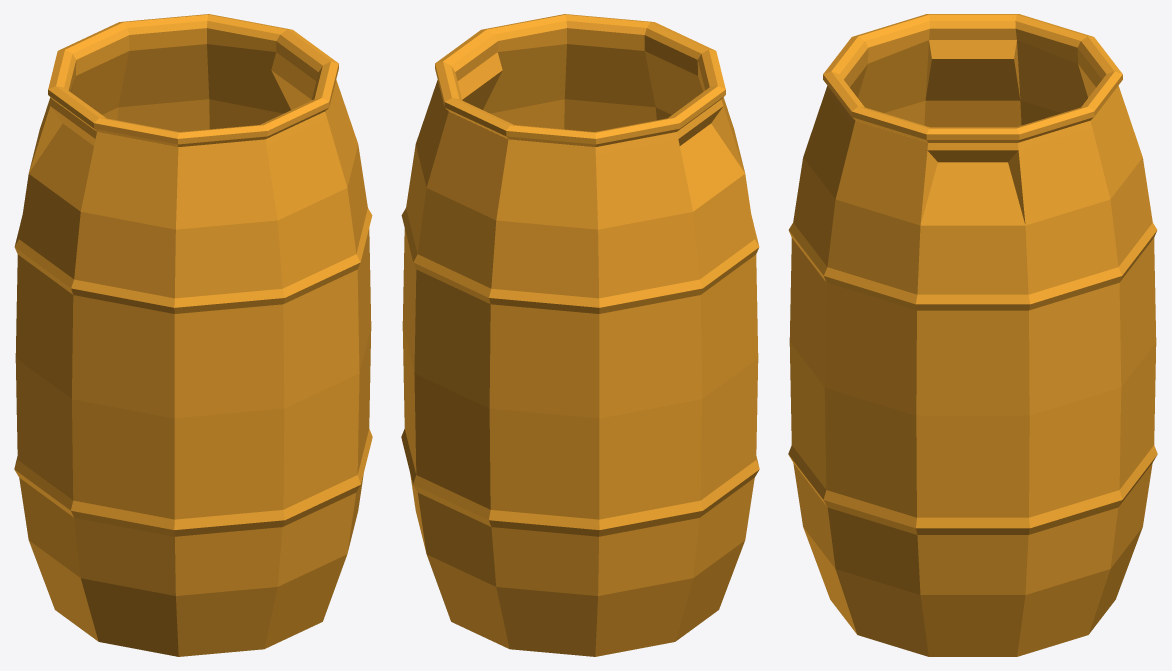
Rendered from SM_Barrel_Plastic_Open.fbx.
3 views of the same model, side by side, from view 1: azimuth 30°, elevation 25°; view 2: azimuth 150°, elevation 25°; view 3: azimuth 270°, elevation 25° (orthographic).
Visible parts, largest first — view 1: barrel-plastic-open; view 2: barrel-plastic-open; view 3: barrel-plastic-open.
Boxes of the visible parts, x1=… form: barrel-plastic-open: x1=14, y1=14, x2=372, y2=656; barrel-plastic-open: x1=401, y1=14, x2=759, y2=656; barrel-plastic-open: x1=788, y1=14, x2=1157, y2=656.
Size of the model in its own units: 0.5691 by 0.9547 by 0.5984.
